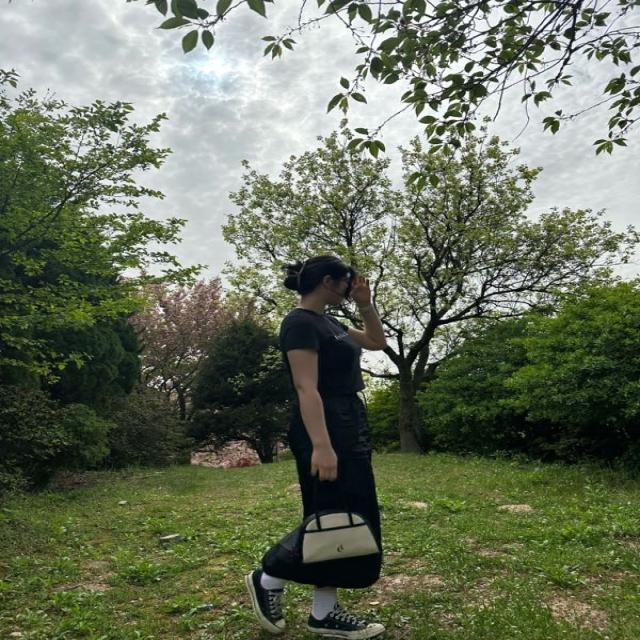shortsleeve: (277, 307, 367, 395)
skirt: (260, 396, 380, 589)
